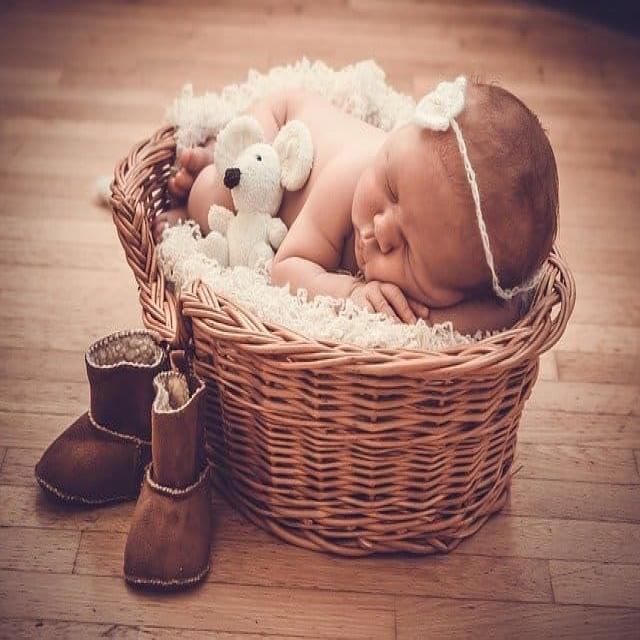non-dog: (185, 73, 563, 328)
